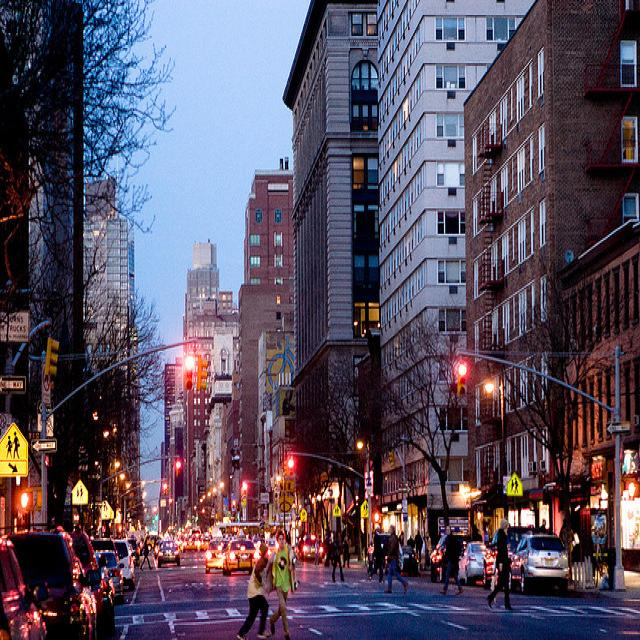Vehicle: (1, 523, 520, 639), (10, 533, 98, 631), (508, 533, 570, 593), (94, 550, 126, 606), (224, 539, 260, 576), (458, 543, 488, 585), (219, 524, 292, 540), (114, 540, 137, 583), (379, 534, 404, 572), (429, 535, 447, 583), (206, 541, 230, 575), (300, 536, 324, 562), (158, 540, 180, 568), (401, 546, 419, 574), (182, 536, 198, 554)
